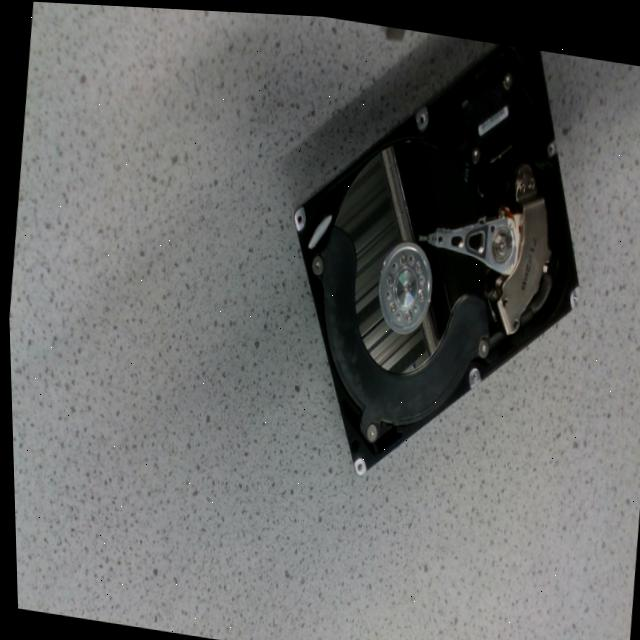actuator arm: (426, 211, 517, 267)
actuator axis: (490, 220, 508, 256)
case: (291, 40, 576, 469)
magnet: (495, 192, 548, 327)
pcb connector: (461, 67, 527, 158)
platter: (332, 138, 483, 367)
platter holder: (376, 237, 429, 328)
platter protector: (321, 225, 485, 422)
screw: (310, 250, 321, 271), (476, 331, 485, 351), (364, 420, 374, 437), (502, 66, 511, 83), (469, 141, 477, 157), (414, 284, 422, 296), (387, 295, 394, 308), (397, 248, 404, 260), (412, 257, 419, 269), (402, 305, 409, 316), (384, 269, 390, 280)
